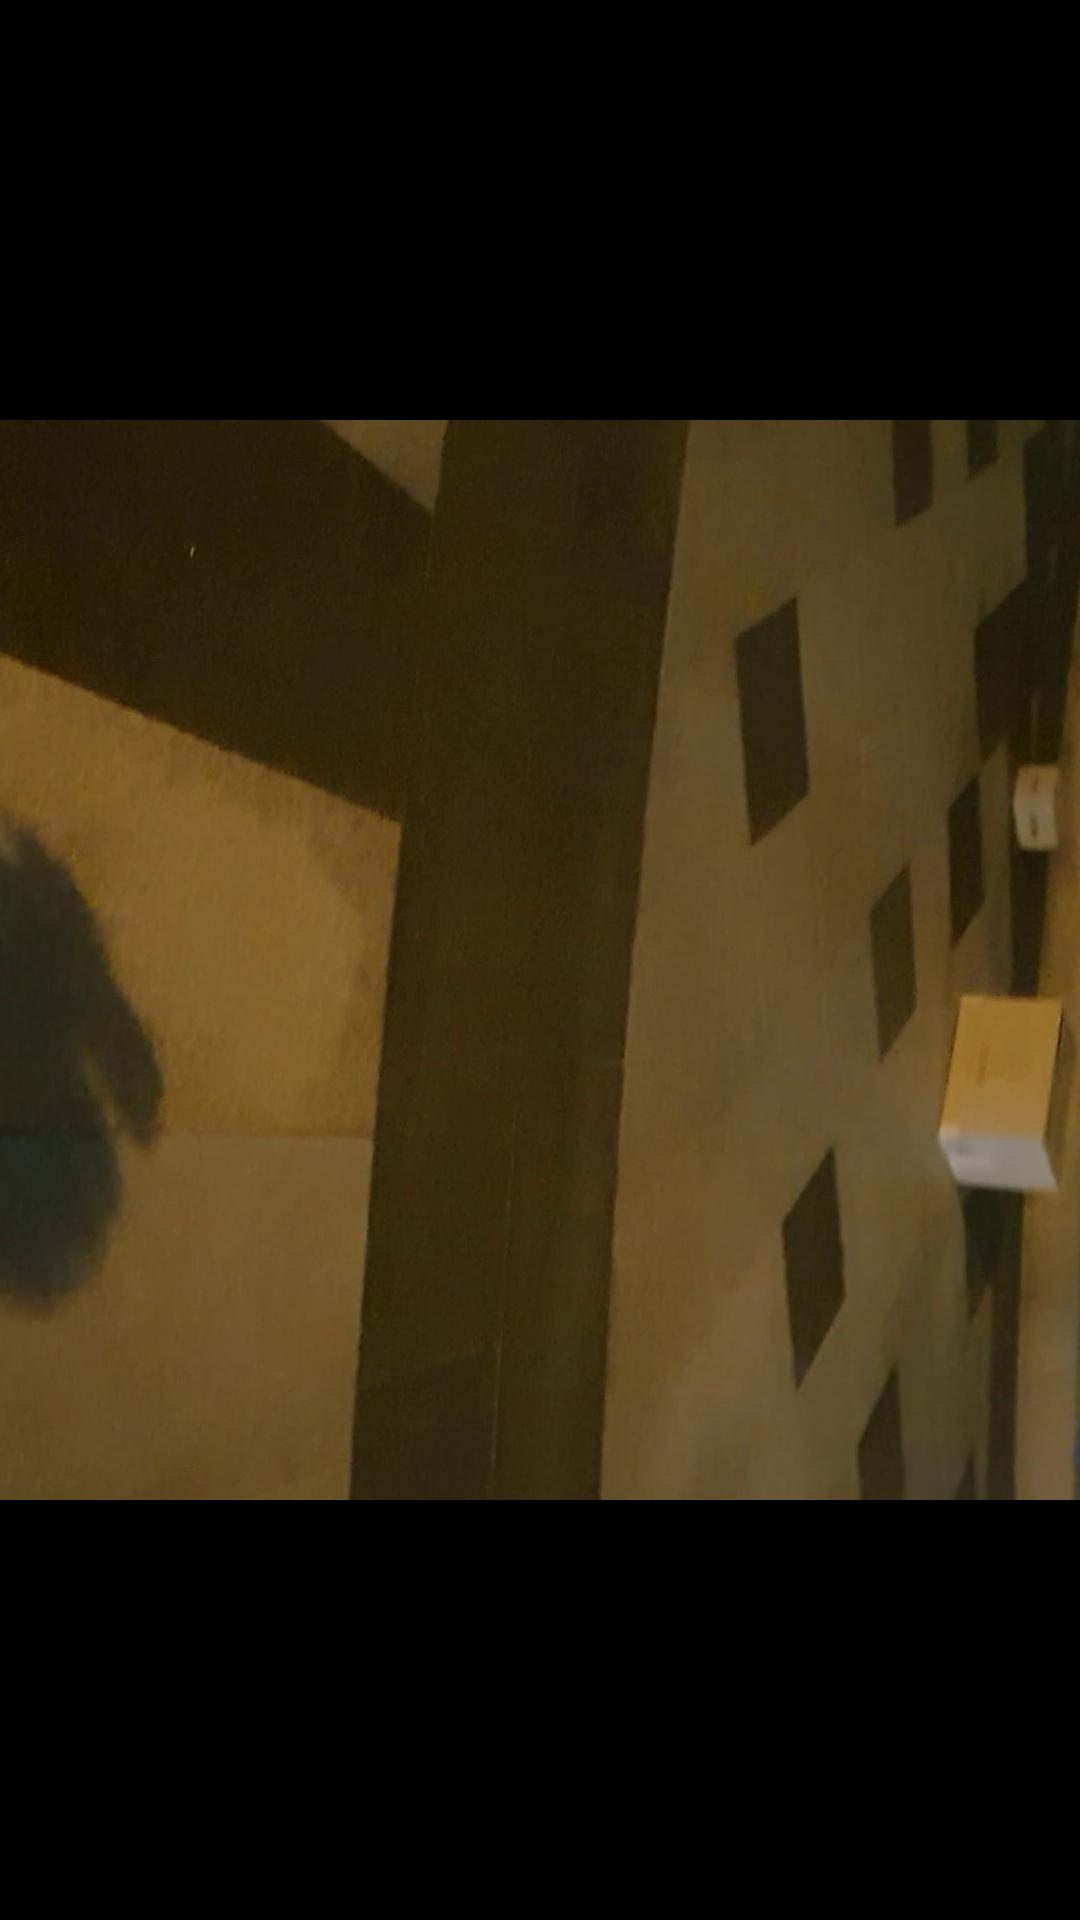Box: (924, 993, 1080, 1199), (996, 752, 1075, 862)
